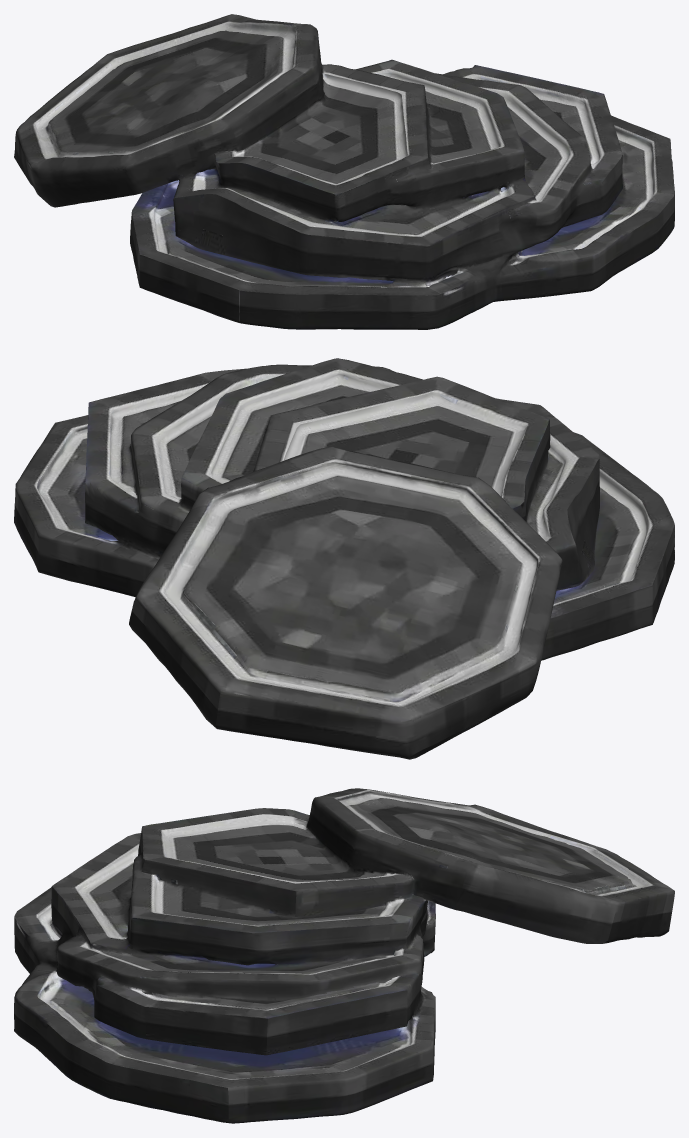
File: octagonal_chips.glb
3 views of the same model, one above another, from view 1: azimuth 30°, elevation 25°; view 2: azimuth 150°, elevation 25°; view 3: azimuth 270°, elevation 25° (orthographic). The views are drawn at different scales.
Visible parts, largest first — view 1: Mesh_0; view 2: Mesh_0; view 3: Mesh_0.
Boxes of the visible parts, <box> form: Mesh_0: <box>14,14,674,329</box>; Mesh_0: <box>14,358,674,759</box>; Mesh_0: <box>14,788,674,1123</box>.
Bounding box in the file's own units: 1.84 × 0.4684 × 1.91.
Materials: 1 (1 with a texture image).
